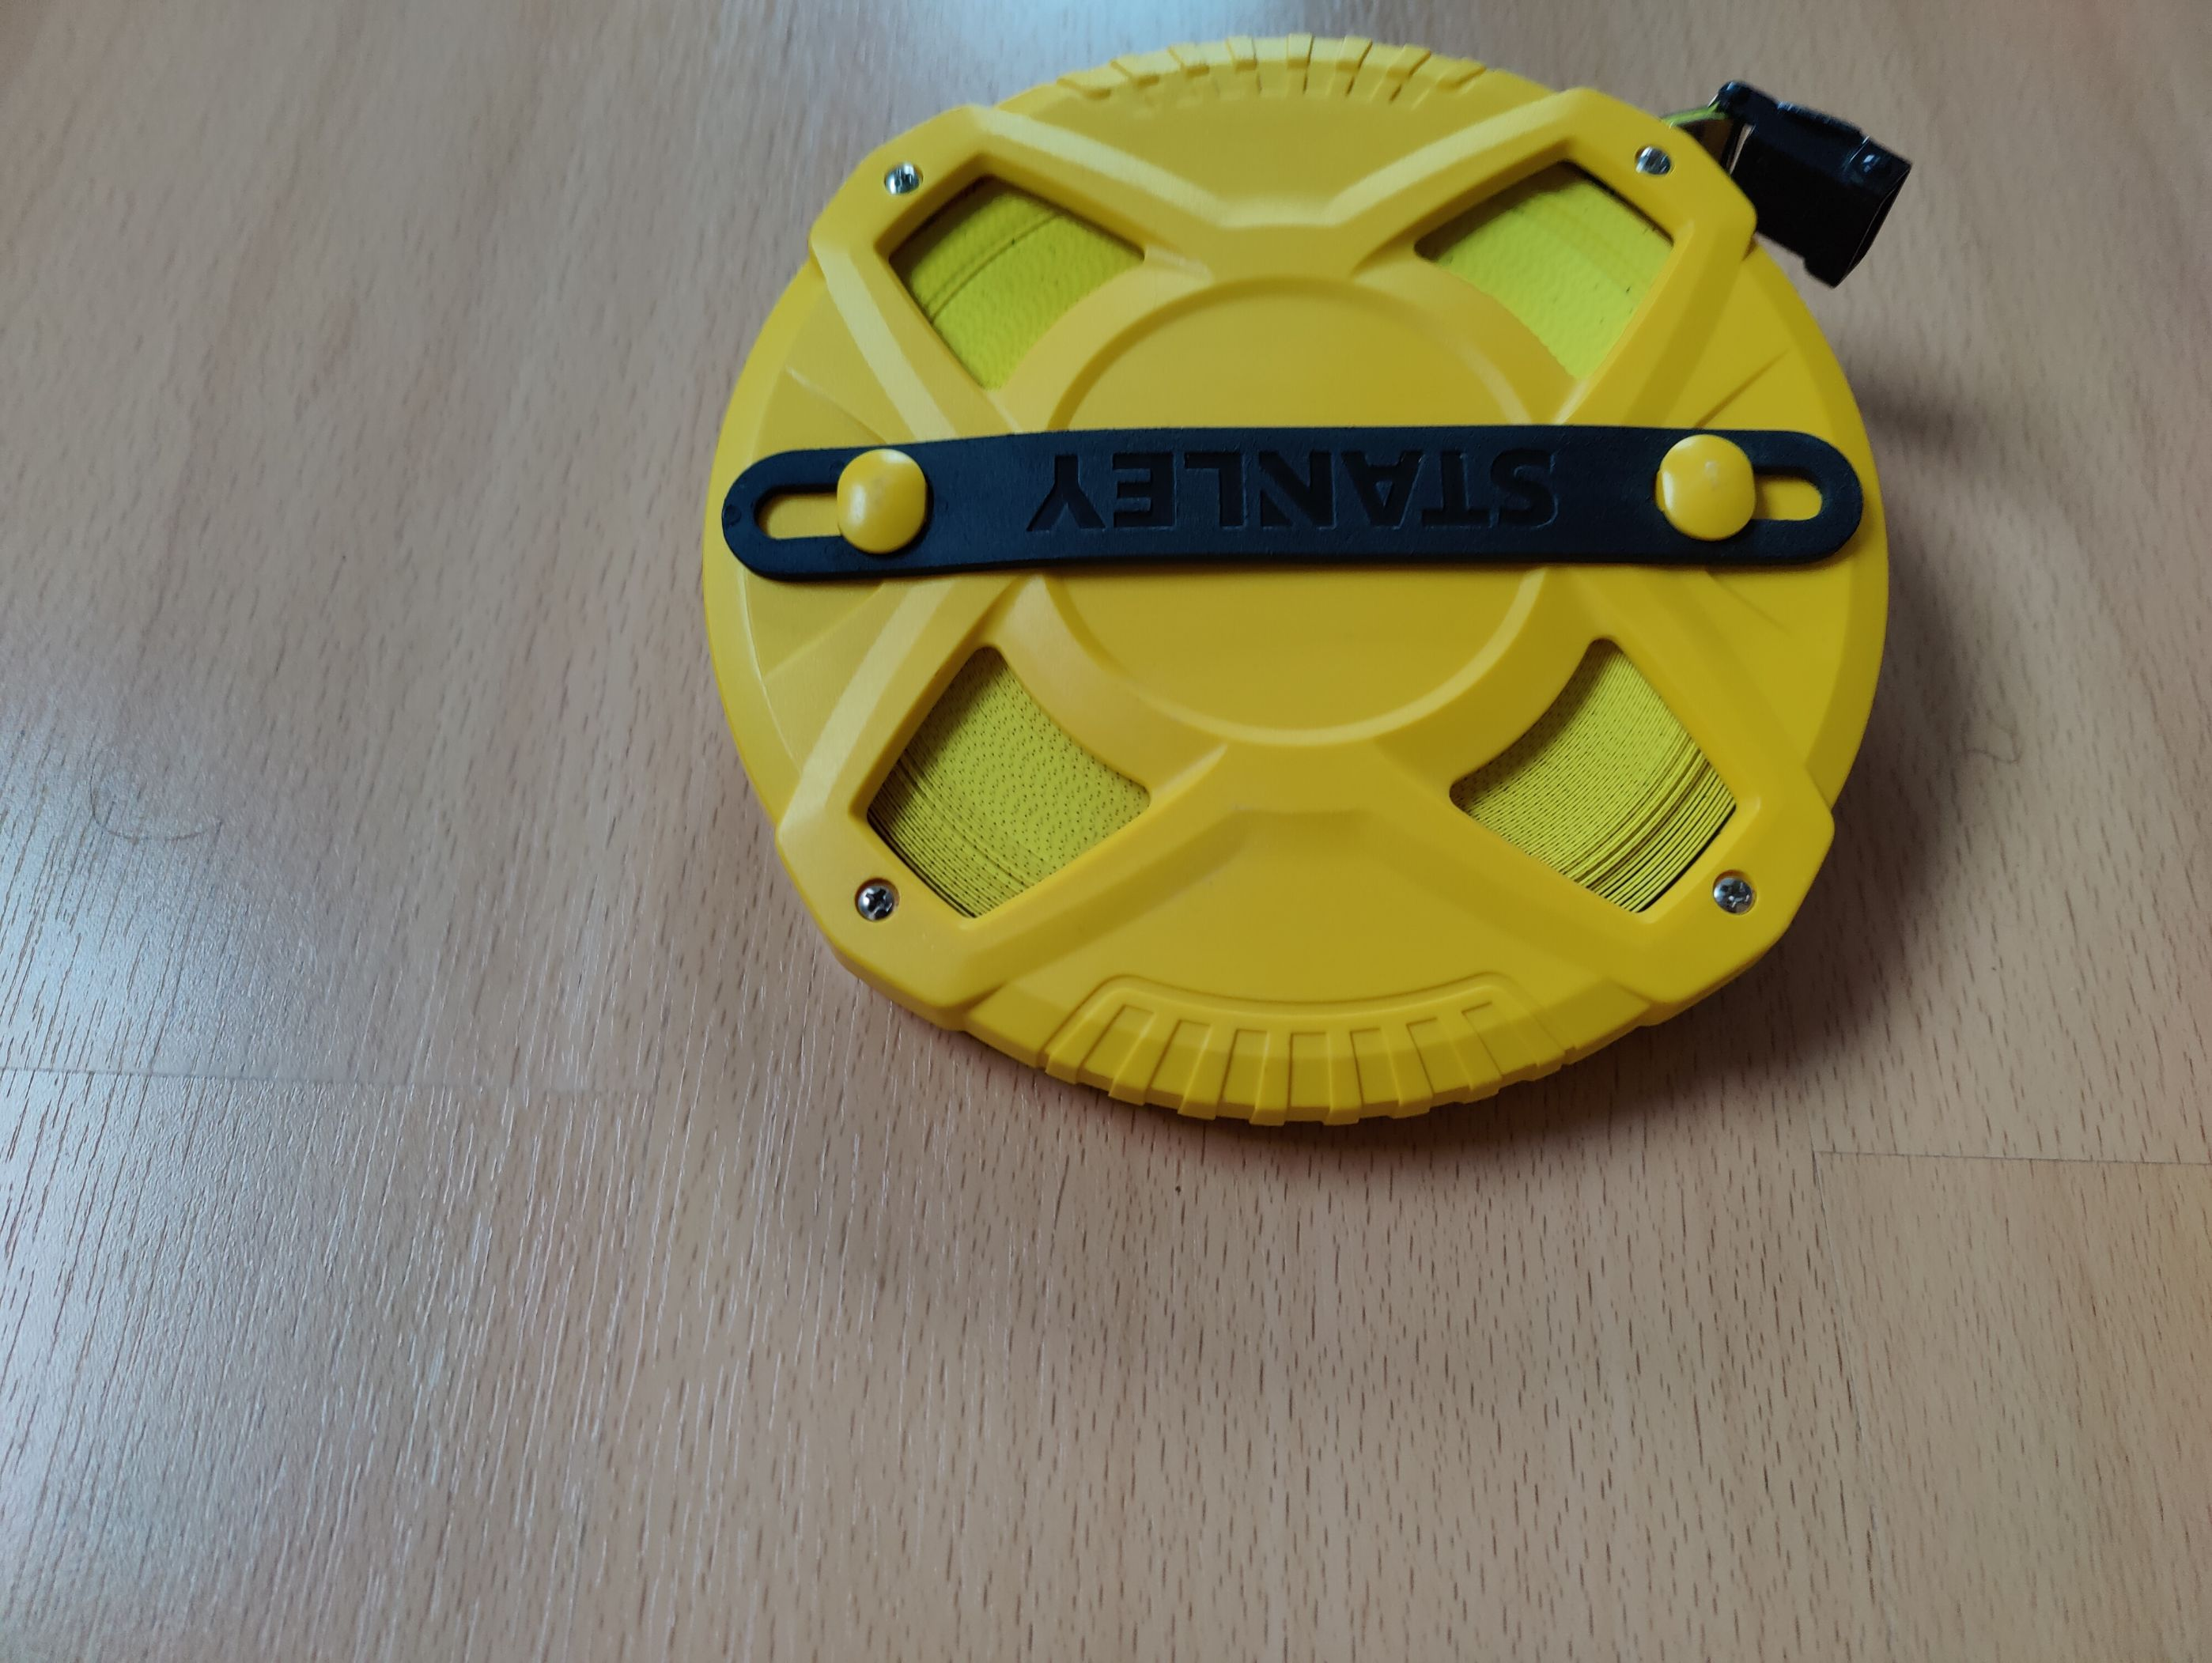tapemeasure: (708, 33, 1917, 1125)
